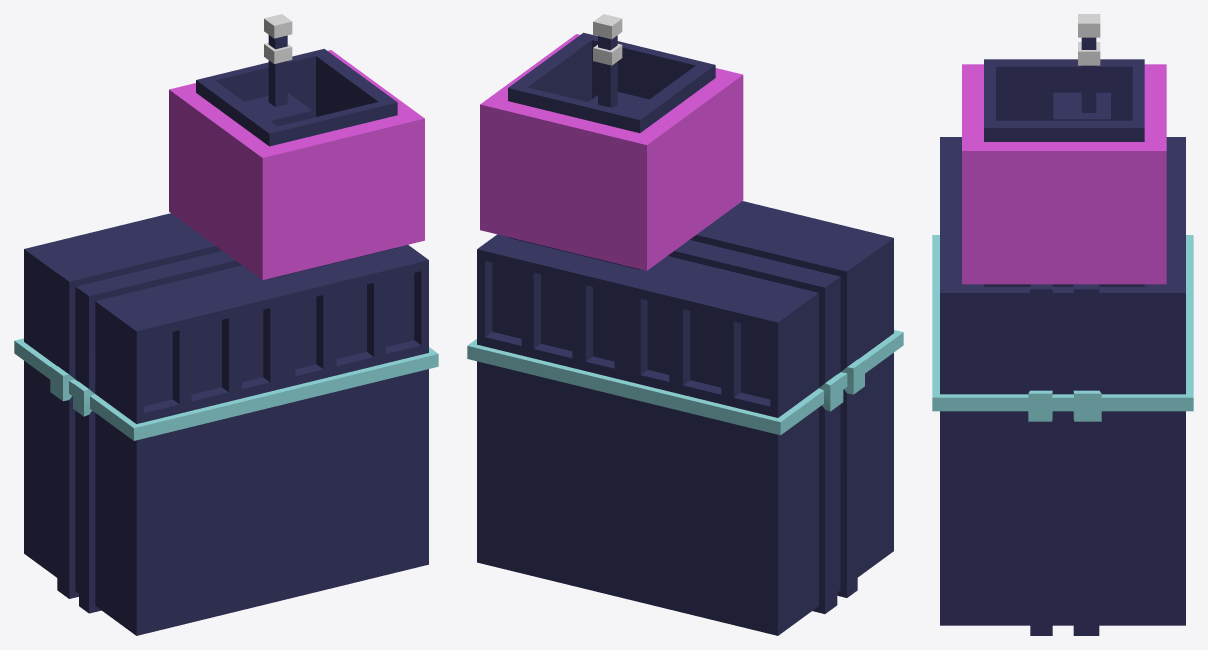
File: Building_12.fbx
The picture shows the model from 3 angles, left to right: view 1: azimuth 30°, elevation 25°; view 2: azimuth 150°, elevation 25°; view 3: azimuth 270°, elevation 25°; orthographic projection. The views are drawn at different scales.
Visible parts, largest first — view 1: pCube43; view 2: pCube43; view 3: pCube43.
Boxes of the visible parts, box(x1,y1,x2,y2) form: pCube43: box(14, 14, 438, 635); pCube43: box(467, 14, 903, 635); pCube43: box(932, 14, 1193, 635).
Size of the model in its own units: 6.5 by 10.22 by 4.25.
